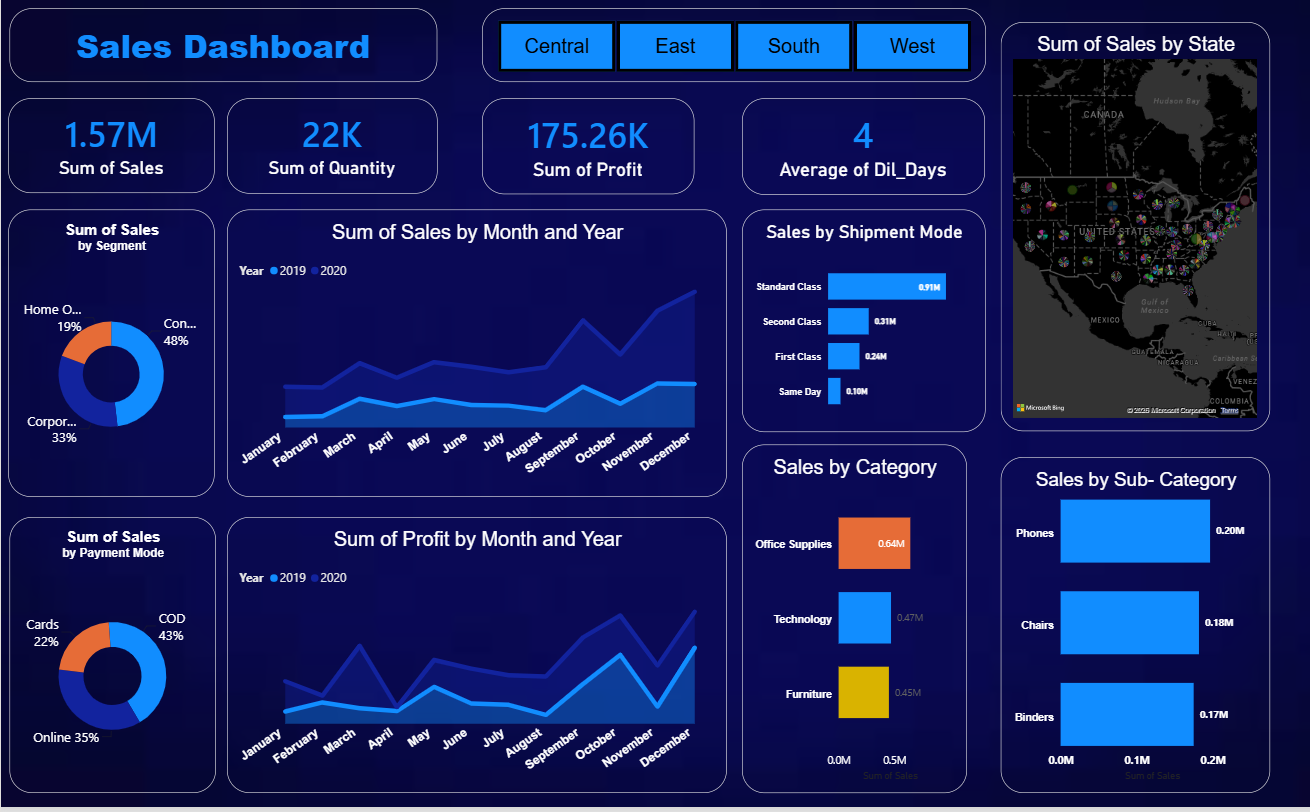

This screenshot's page, from the dashboard's own definition file:
{"tool":"powerbi","page":{"name":"Page 1","canvas":[1920,1080],"ordinal":0},"visuals":[{"type":"donutChart","fields":{"Category":["SuperStore_Sales_Dataset (1).Segment"],"Y":["Sum(SuperStore_Sales_Dataset (1).Sales)"]},"box":[21.7,283.3,275,383.3],"z":0},{"type":"donutChart","fields":{"Category":["SuperStore_Sales_Dataset (1).Payment Mode"],"Y":["Sum(SuperStore_Sales_Dataset (1).Sales)"]},"box":[23.3,693.3,275,368.3],"z":1000},{"type":"stackedAreaChart","title":"Sum of Sales by Month and Year","fields":{"Category":["SuperStore_Sales_Dataset (1).Order Date.Variation.Date Hierarchy.Month"],"Series":["SuperStore_Sales_Dataset (1).Order Date.Variation.Date Hierarchy.Year"],"Y":["Sum(SuperStore_Sales_Dataset (1).Sales)"]},"box":[313.3,283.3,666.7,383.3],"z":2000},{"type":"stackedAreaChart","title":"Sum of Profit by Month and Year","fields":{"Category":["SuperStore_Sales_Dataset (1).Order Date.Variation.Date Hierarchy.Month"],"Series":["SuperStore_Sales_Dataset (1).Order Date.Variation.Date Hierarchy.Year"],"Y":["Sum(SuperStore_Sales_Dataset (1).Profit)"]},"box":[313.3,693.3,666.7,368.3],"z":3000},{"type":"clusteredBarChart","title":"Sales by Category","fields":{"Category":["SuperStore_Sales_Dataset (1).Category"],"Y":["Sum(SuperStore_Sales_Dataset (1).Sales)"]},"box":[1000,596.7,300,465],"z":4000},{"type":"clusteredBarChart","title":"Sales by Sub- Category","fields":{"Category":["SuperStore_Sales_Dataset (1).Sub-Category"],"Y":["Sum(SuperStore_Sales_Dataset (1).Sales)"]},"box":[1344.8,614,359.3,448.3],"z":5000},{"type":"clusteredBarChart","title":" Sales by Shipment Mode","fields":{"Category":["SuperStore_Sales_Dataset (1).Ship Mode"],"Y":["Sum(SuperStore_Sales_Dataset (1).Sales)"]},"box":[1000,283.3,325,296.7],"z":6000},{"type":"textbox","box":[23.3,15,570,98.3],"z":7000},{"type":"cardVisual","fields":{"Data":["Sum(SuperStore_Sales_Dataset (1).Sales)"]},"box":[21.7,135,275,126.7],"z":8000},{"type":"cardVisual","fields":{"Data":["Sum(SuperStore_Sales_Dataset (1).Quantity)"]},"box":[312.7,134.9,281,127],"z":9000},{"type":"slicer","fields":{"Values":["SuperStore_Sales_Dataset (1).Region"]},"box":[653.3,15,671.7,98.3],"z":10000},{"type":"cardVisual","fields":{"Data":["Sum(SuperStore_Sales_Dataset (1).Profit)"]},"box":[653.3,135,283.3,128.3],"z":11000},{"type":"cardVisual","fields":{"Data":["Avg(SuperStore_Sales_Dataset (1).Dil_Days)"]},"box":[1000,134.9,323.8,128.6],"z":12000},{"type":"map","title":"Sum of Sales by State","fields":{"Category":["SuperStore_Sales_Dataset (1).State","SuperStore_Sales_Dataset (1).Sales"],"Series":["SuperStore_Sales_Dataset (1).Sales"]},"box":[1344.8,33.1,359.3,545.9],"z":13000}]}

Visuals, with their boxes on the page's 1920x1080 design canvas (x1, y1, x2, y2). These are canvas units, not pixel positions in the 1310x812 screenshot, which may show the page scaled, cropped or inside an application window:
donutChart - SuperStore_Sales_Dataset (1).Segment x Sum(SuperStore_Sales_Dataset (1).Sales): bbox=(22, 283, 297, 667)
donutChart - SuperStore_Sales_Dataset (1).Payment Mode x Sum(SuperStore_Sales_Dataset (1).Sales): bbox=(23, 693, 298, 1062)
"Sum of Sales by Month and Year" stackedAreaChart: bbox=(313, 283, 980, 667)
"Sum of Profit by Month and Year" stackedAreaChart: bbox=(313, 693, 980, 1062)
"Sales by Category" clusteredBarChart: bbox=(1000, 597, 1300, 1062)
"Sales by Sub- Category" clusteredBarChart: bbox=(1345, 614, 1704, 1062)
" Sales by Shipment Mode" clusteredBarChart: bbox=(1000, 283, 1325, 580)
textbox: bbox=(23, 15, 593, 113)
cardVisual - Sum(SuperStore_Sales_Dataset (1).Sales): bbox=(22, 135, 297, 262)
cardVisual - Sum(SuperStore_Sales_Dataset (1).Quantity): bbox=(313, 135, 594, 262)
slicer - SuperStore_Sales_Dataset (1).Region: bbox=(653, 15, 1325, 113)
cardVisual - Sum(SuperStore_Sales_Dataset (1).Profit): bbox=(653, 135, 937, 263)
cardVisual - Avg(SuperStore_Sales_Dataset (1).Dil_Days): bbox=(1000, 135, 1324, 264)
"Sum of Sales by State" map: bbox=(1345, 33, 1704, 579)
